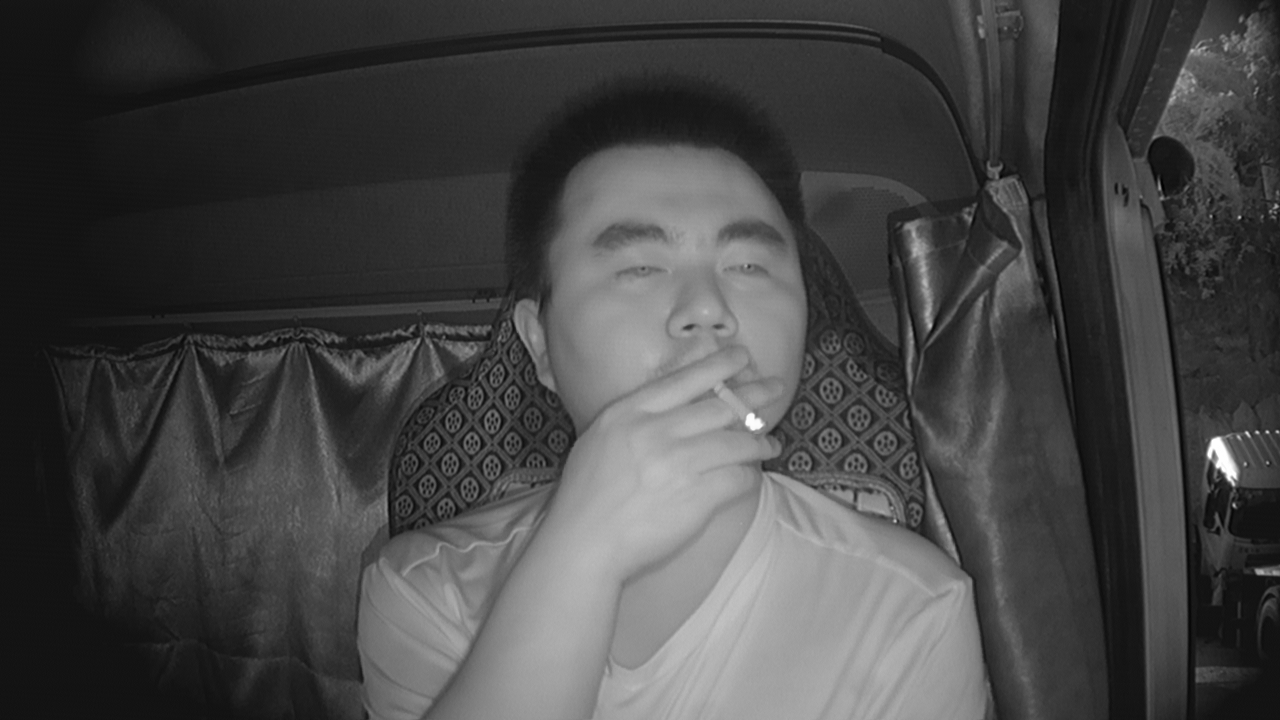hand: (624, 347, 786, 516)
